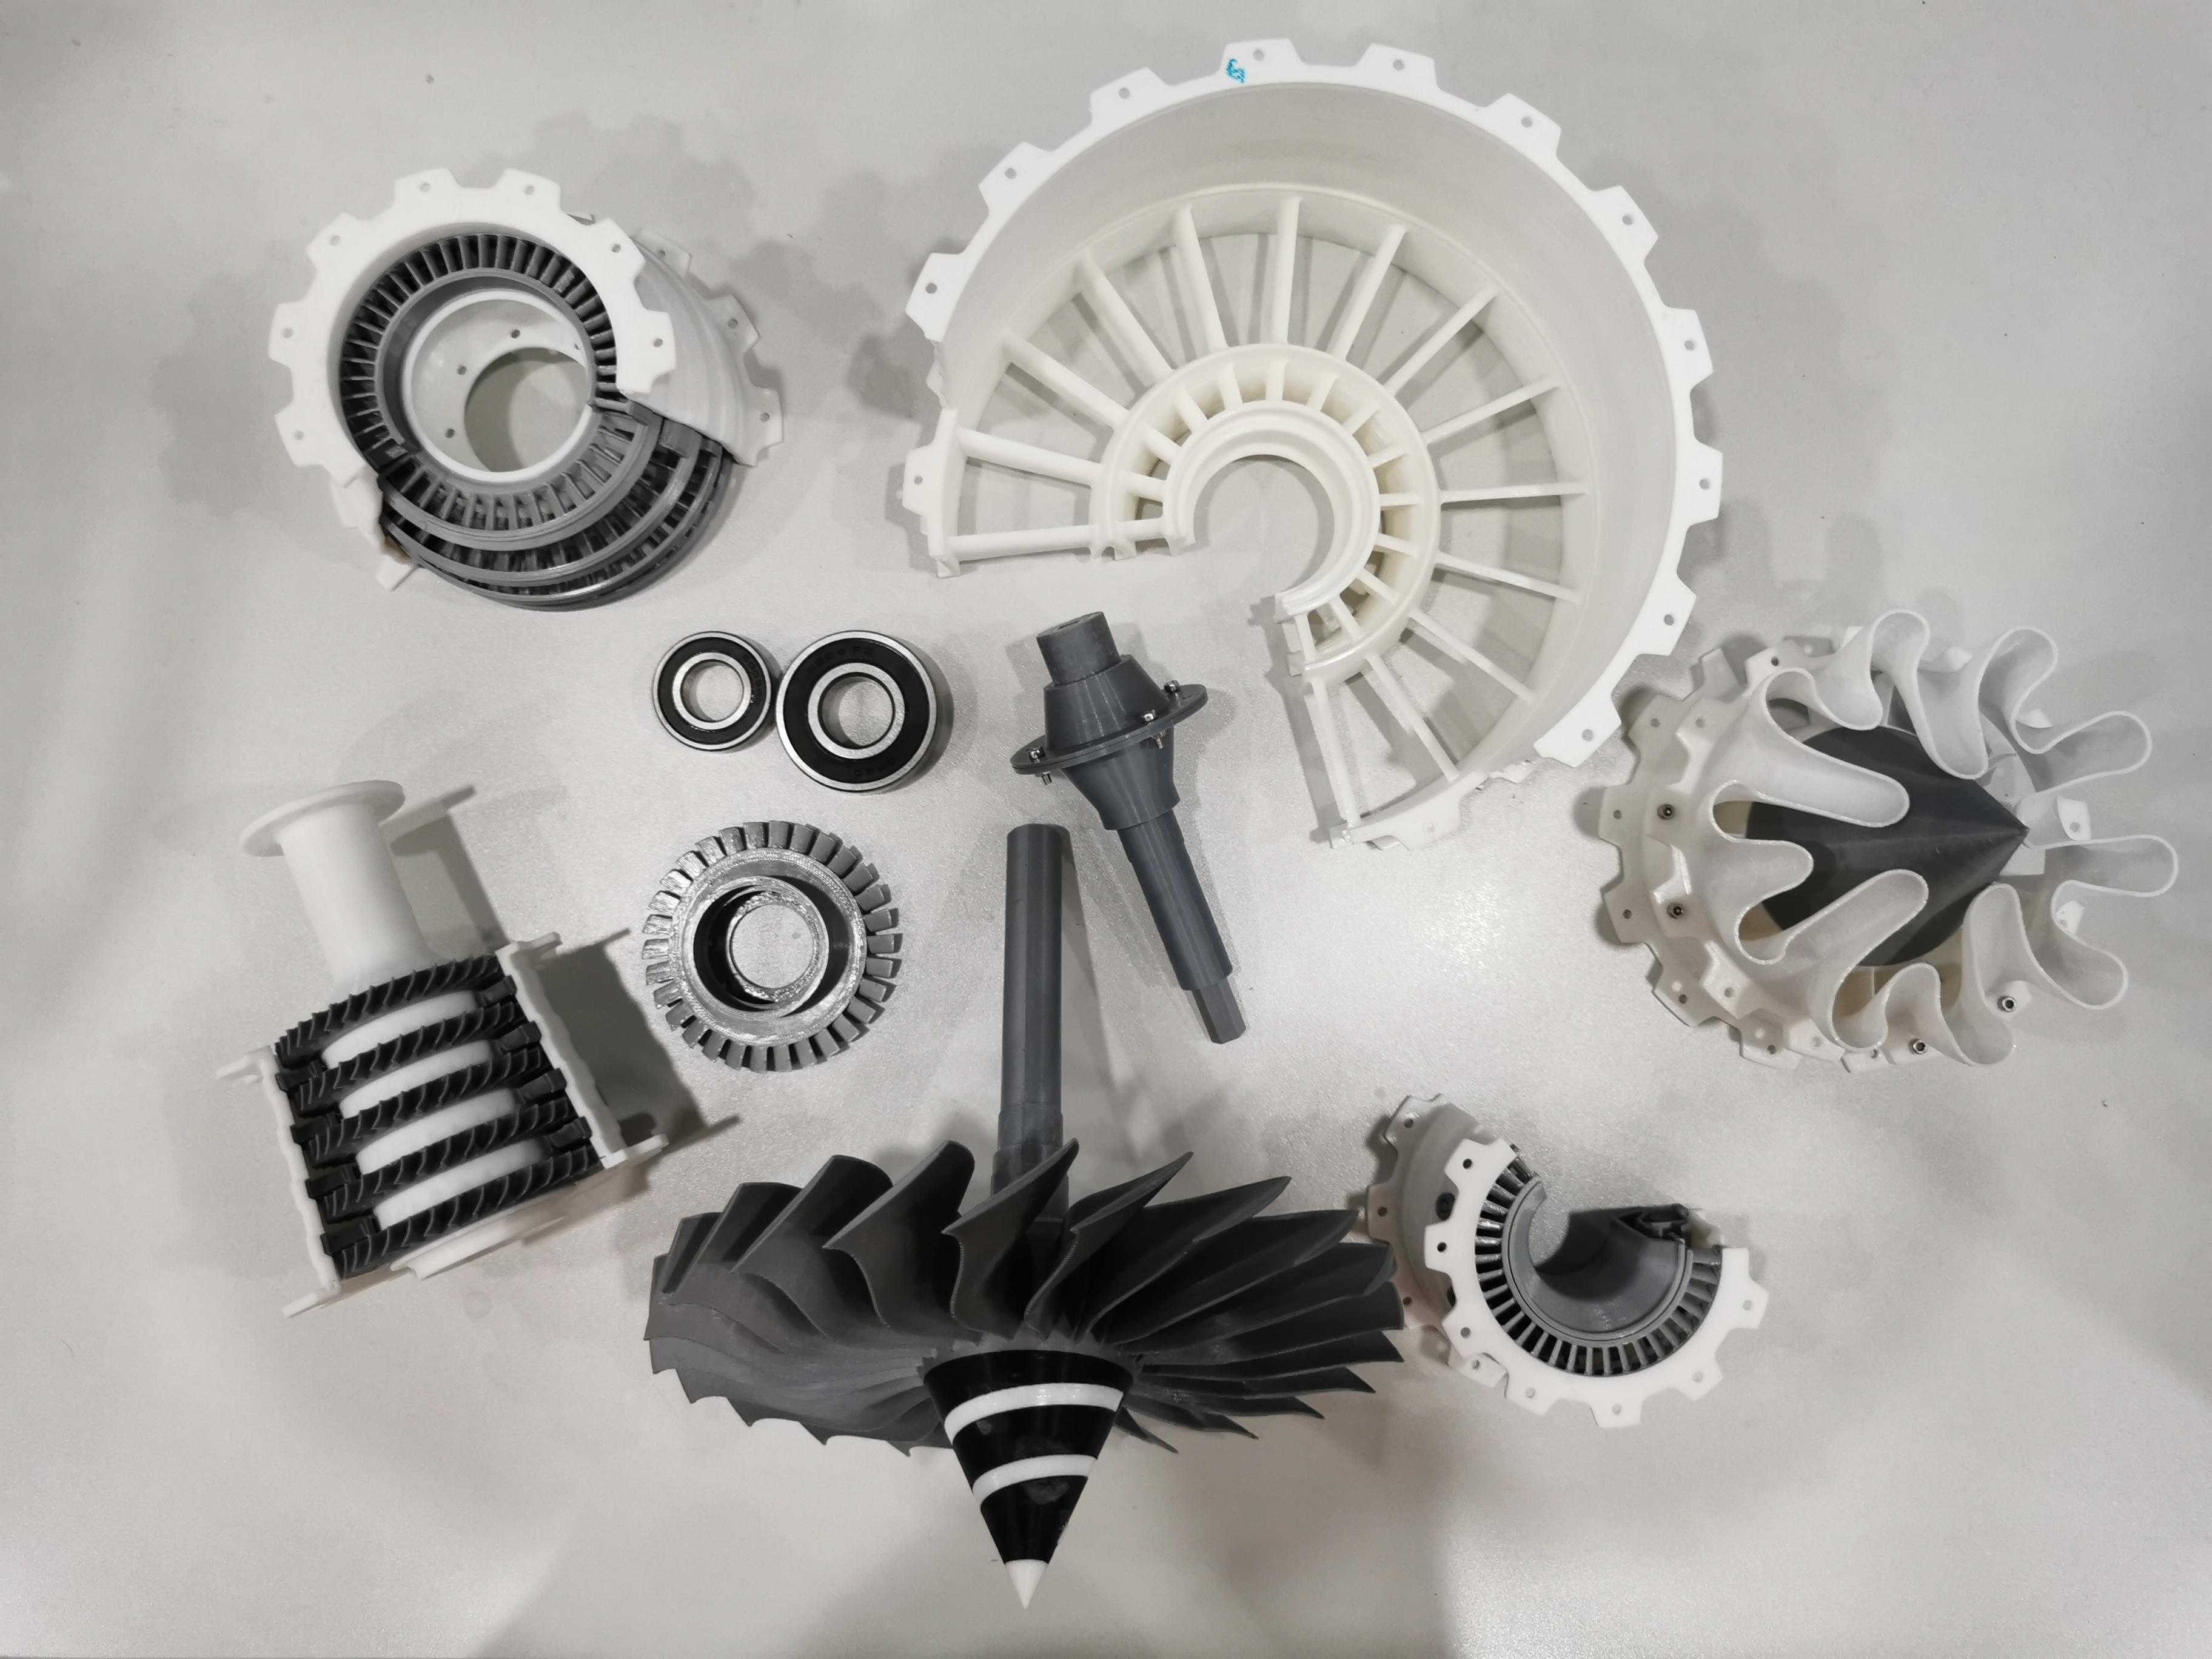Bearing-6003: (625, 620, 773, 772)
Bearing-6204: (773, 615, 951, 796)
Combustion Section: (1348, 1068, 1780, 1438)
Fan Casing and Support: (890, 30, 1726, 857)
Fan and Low Pressure Shaft: (631, 812, 1409, 1612)
HPT Section: (631, 812, 909, 1091)
High Pressure Spool: (206, 763, 679, 1324)
LPT Section: (251, 157, 794, 620)
Low Pressure Spool: (1001, 601, 1263, 1051)
Nozzle Section: (1588, 606, 2188, 1086)
